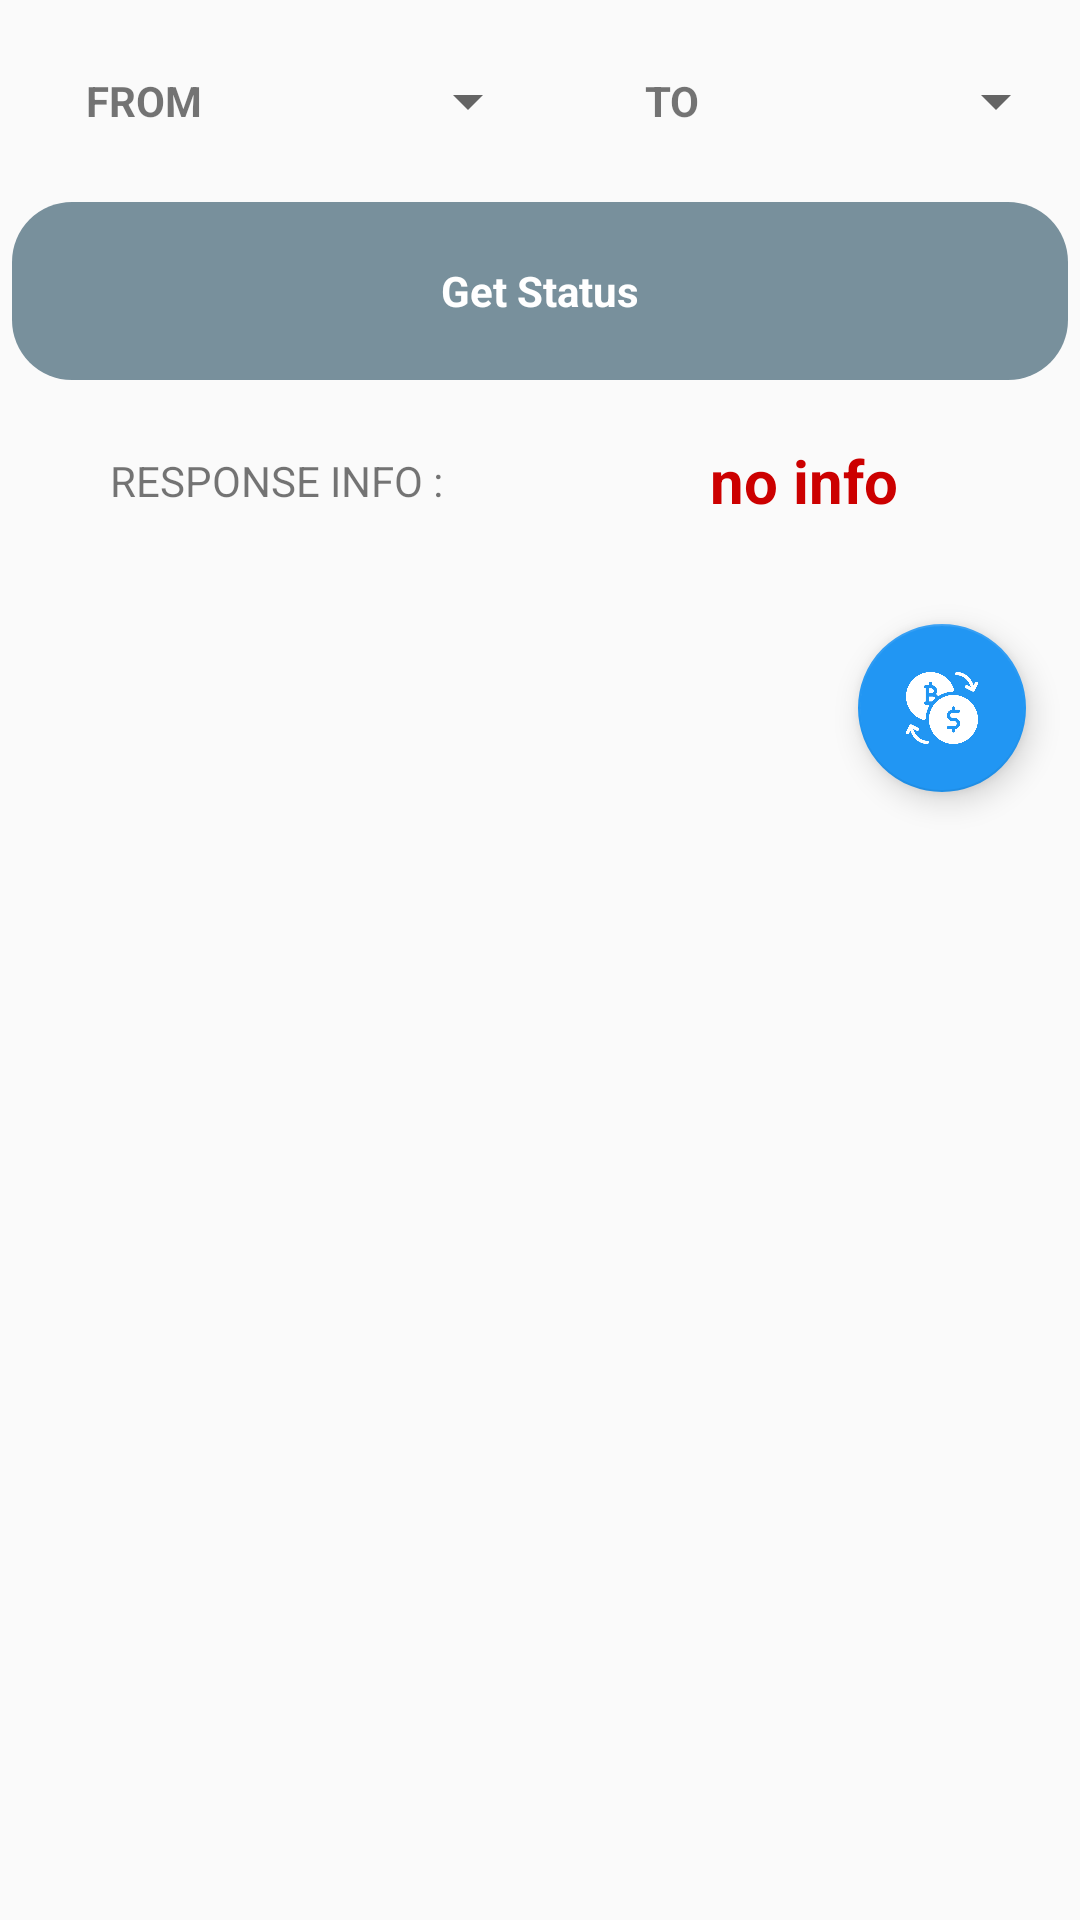

Named icons in this screenshot (1080px x 1920px) and their bounding boxes, (x1, y1, x2, y2):
exchange: (858, 624, 1026, 792)
